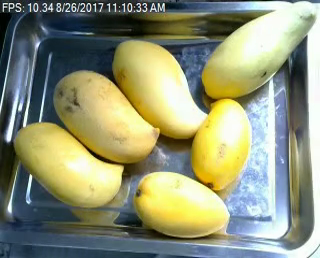Mango: (198, 2, 320, 100), (52, 62, 162, 164), (10, 119, 128, 212), (113, 38, 208, 139), (130, 165, 231, 238), (188, 93, 255, 187)
